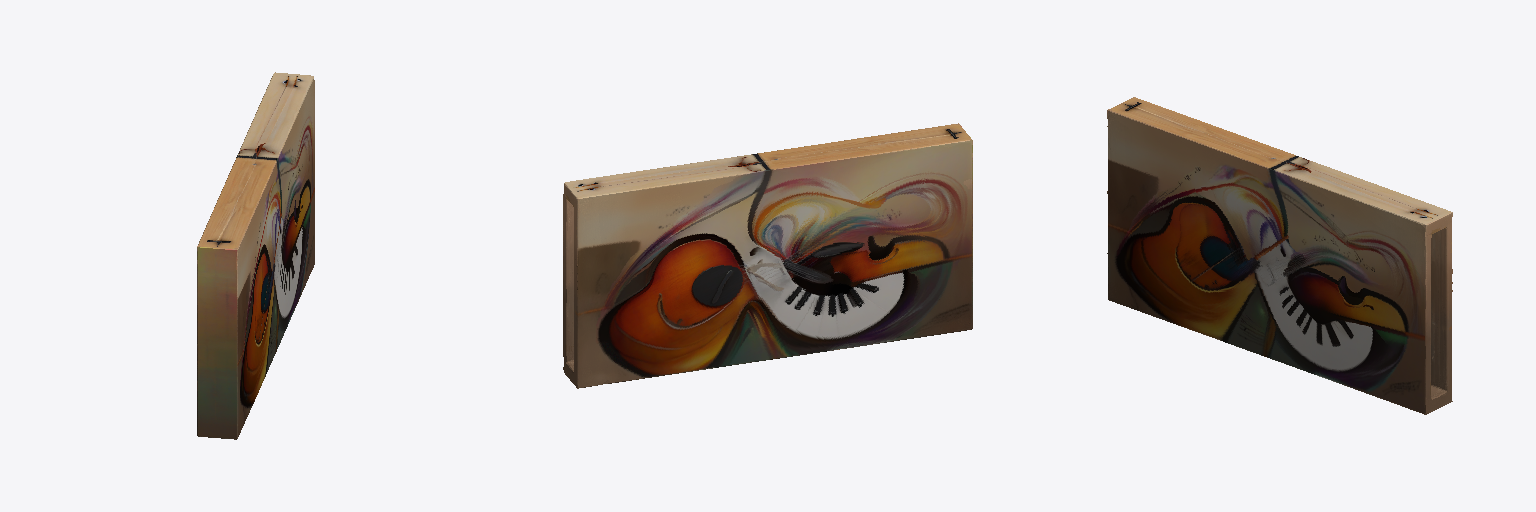
3 renders of one model, left to right at view 1: azimuth 30°, elevation 25°; view 2: azimuth 150°, elevation 25°; view 3: azimuth 270°, elevation 25°, orthographic.
Visible parts, largest first — view 1: cuadronuevo14; view 2: cuadronuevo14; view 3: cuadronuevo14.
Part boxes in pixels (x1,y1,x2,y2): cuadronuevo14: (197,72,314,439); cuadronuevo14: (563,123,972,388); cuadronuevo14: (1107,97,1452,414).
Bounding box in the file's own units: 15.47 × 10.71 × 17.58.
1 materials, 1 textured.